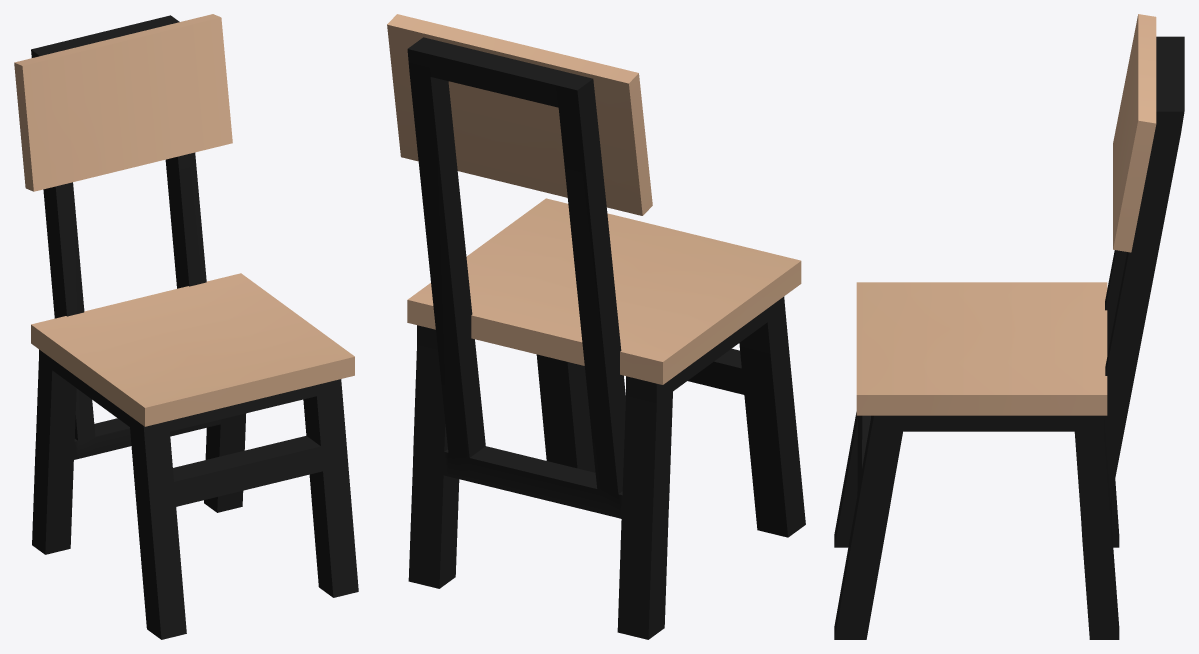
File: SM_Props_Cafe_17.fbx
3 renders of one model, left to right at view 1: azimuth 30°, elevation 25°; view 2: azimuth 150°, elevation 25°; view 3: azimuth 270°, elevation 25°, orthographic. The views are drawn at different scales.
Visible parts, largest first — view 1: SM_Props_Cafe_17; view 2: SM_Props_Cafe_17; view 3: SM_Props_Cafe_17.
Part boxes in pixels (bbox=[...]): SM_Props_Cafe_17: bbox=[14, 14, 358, 639]; SM_Props_Cafe_17: bbox=[387, 14, 805, 639]; SM_Props_Cafe_17: bbox=[834, 14, 1184, 639].
Bounding box in the file's own units: 51.65 × 111 × 67.82.
